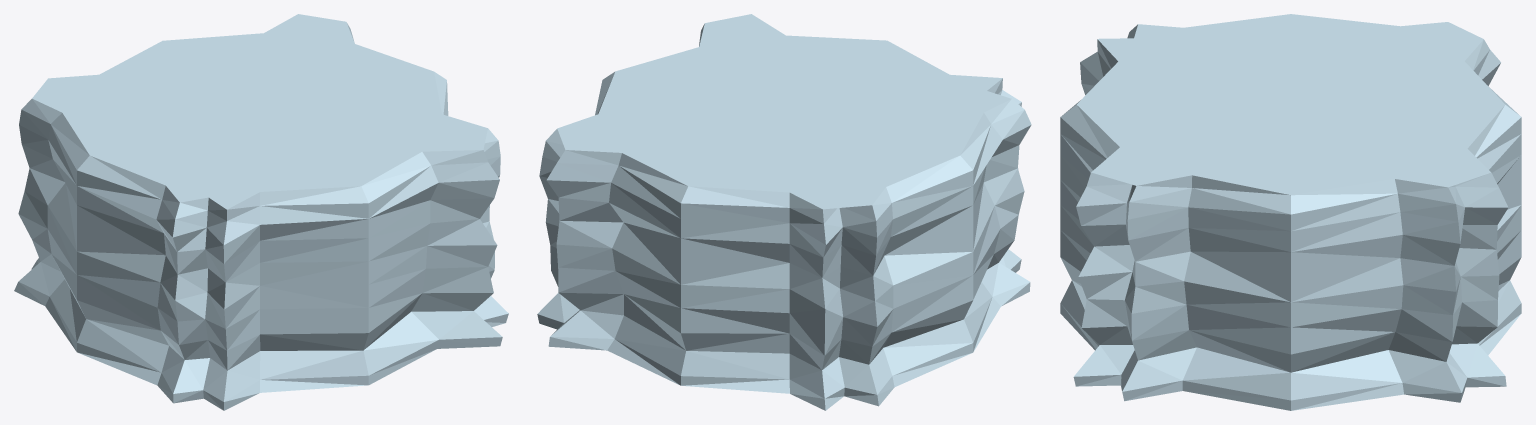
Rendered from serac-2.glb.
3 views of the same model, side by side, from view 1: azimuth 30°, elevation 25°; view 2: azimuth 150°, elevation 25°; view 3: azimuth 270°, elevation 25° (orthographic). The views are drawn at different scales.
Parts seen in each view (by area): view 1: serac-1002; view 2: serac-1002; view 3: serac-1002.
Part boxes in pixels (bbox=[...]): serac-1002: bbox=[14, 14, 508, 410]; serac-1002: bbox=[537, 14, 1031, 410]; serac-1002: bbox=[1060, 14, 1521, 410].
Size of the model in its own units: 2 by 1 by 2.
